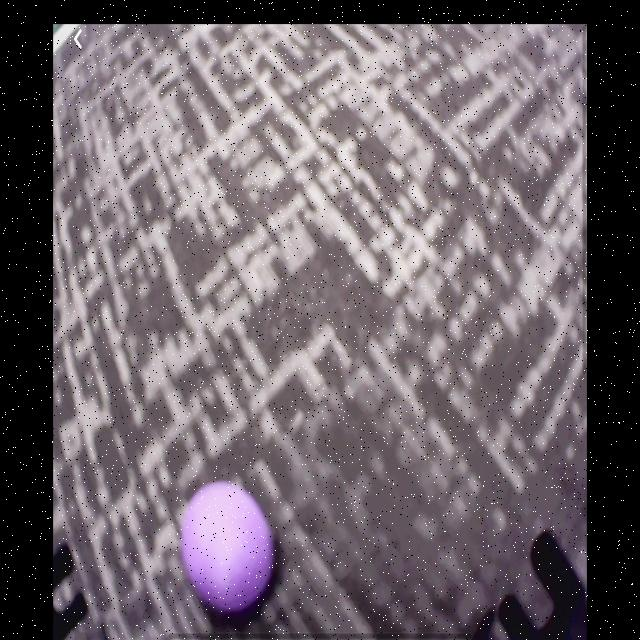ball: (182, 481, 275, 618)
